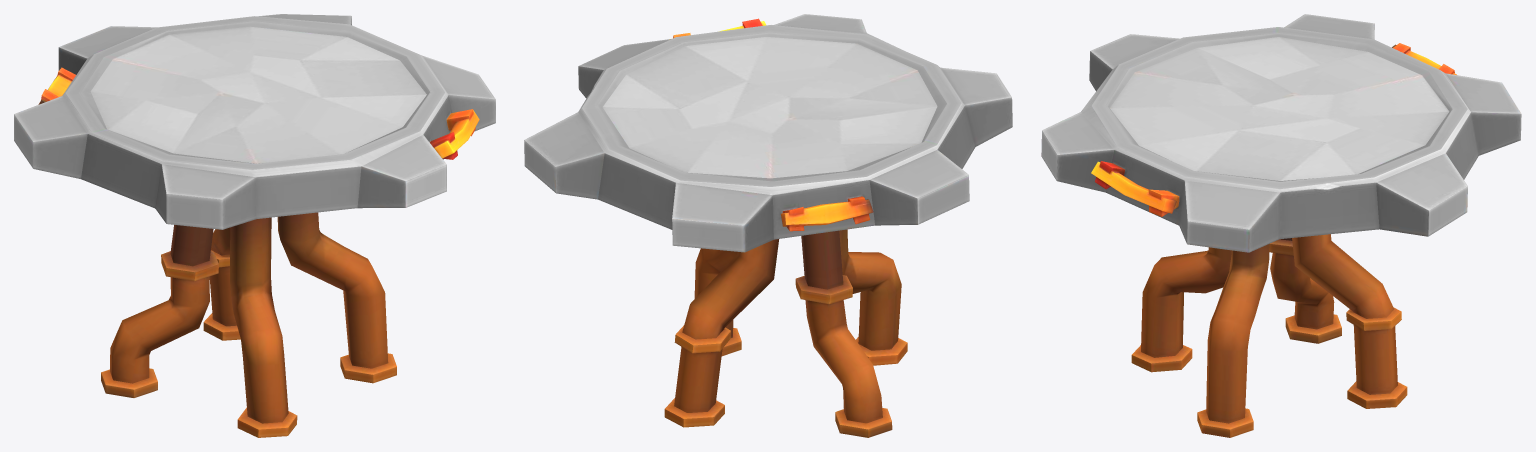
Rendered from obj_table02_base.gltf.
The picture shows the model from 3 angles, left to right: view 1: azimuth 30°, elevation 25°; view 2: azimuth 150°, elevation 25°; view 3: azimuth 270°, elevation 25°; orthographic projection.
Parts seen in each view (by area): view 1: obj_table02_base; view 2: obj_table02_base; view 3: obj_table02_base.
Part boxes in pixels (<box>): obj_table02_base: <box>14,14,495,437</box>; obj_table02_base: <box>524,14,1012,437</box>; obj_table02_base: <box>1041,14,1521,437</box>.
Size of what is drawn, in the model's own units: 0.9536 by 0.6138 by 0.9575.
Materials: 1 (1 with a texture image).
